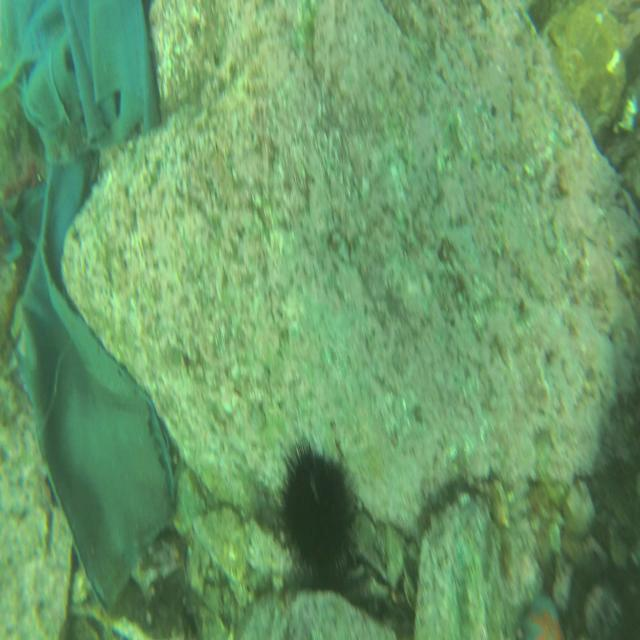echinus: (273, 439, 361, 592)
starfish: (518, 591, 567, 640)
